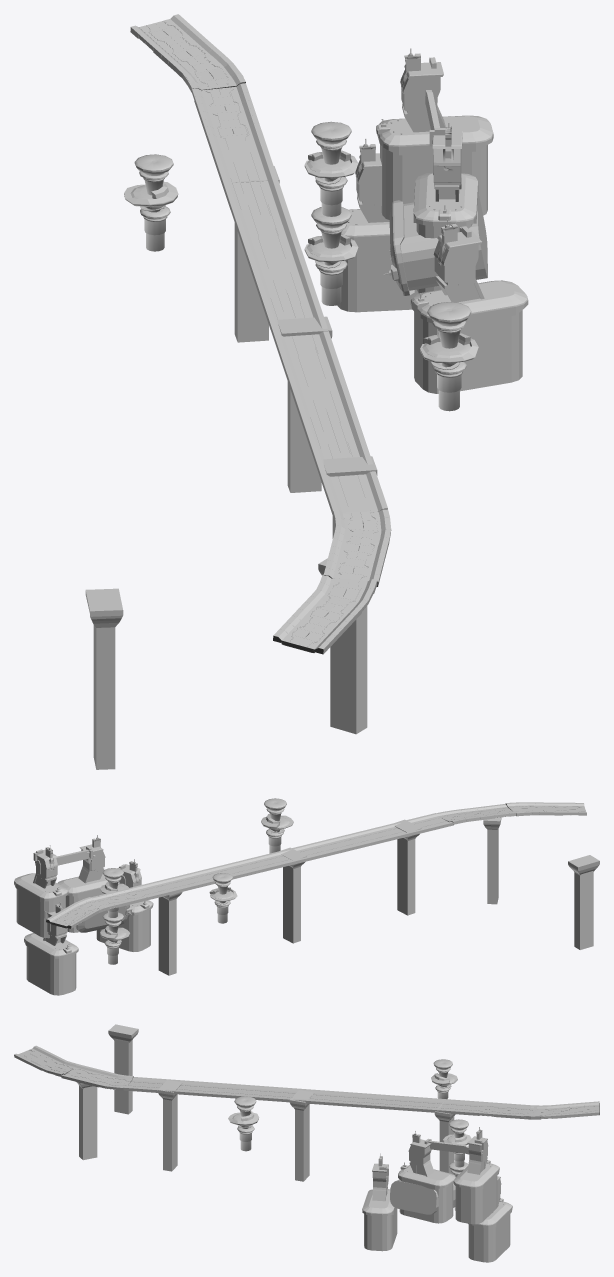
The model's file is City 1.fbx.
3 views of the same model, one above another, from view 1: azimuth 30°, elevation 25°; view 2: azimuth 150°, elevation 25°; view 3: azimuth 270°, elevation 25° (orthographic). The views are drawn at different scales.
Visible parts, largest first — view 1: KB3D_HTS_Road_H_Main_1_001, 立方體.013, 立方體.010, 立方體.003, 立方體.004, KB3D_HTS_Road_H_Main_001.004, 立方體.009, KB3D_HTS_Road_H_Main_001.002, 立方體.005, 立方體.008, KB3D_HTS_Road_H_Main_001.003, 圓柱體.006 (+5 smaller); view 2: KB3D_HTS_Road_H_Main_1_001, 立方體.003, 立方體.010, 立方體.009, 立方體.013, 立方體.004, 立方體.007, 立方體.006, 立方體.011, 立方體.008, KB3D_HTS_Road_H_Main_001.004, 圓柱體.006 (+7 smaller); view 3: KB3D_HTS_Road_H_Main_1_001, 立方體.010, 立方體.004, 立方體.013, 立方體.003, 立方體.009, 立方體.008, 立方體.007, 立方體.006, 立方體.005, KB3D_HTS_Road_H_Main_001.003, KB3D_HTS_Road_H_Main_001.004 (+6 smaller).
Part boxes in pixels (x1=…): KB3D_HTS_Road_H_Main_1_001: x1=185, y1=75, x2=387, y2=516; 立方體.013: x1=410, y1=219, x2=528, y2=393; 立方體.010: x1=376, y1=48, x2=493, y2=219; 立方體.003: x1=337, y1=138, x2=418, y2=312; 立方體.004: x1=413, y1=122, x2=478, y2=293; KB3D_HTS_Road_H_Main_001.004: x1=273, y1=574, x2=377, y2=654; 立方體.009: x1=85, y1=588, x2=123, y2=769; KB3D_HTS_Road_H_Main_001.002: x1=130, y1=14, x2=245, y2=92; 立方體.005: x1=383, y1=194, x2=487, y2=295; 立方體.008: x1=318, y1=558, x2=367, y2=734; KB3D_HTS_Road_H_Main_001.003: x1=323, y1=509, x2=391, y2=586; 圓柱體.006: x1=420, y1=302, x2=478, y2=411; KB3D_HTS_Road_H_Main_1_001: x1=91, y1=813, x2=453, y2=909; 立方體.003: x1=24, y1=902, x2=78, y2=995; 立方體.010: x1=14, y1=845, x2=68, y2=938; 立方體.009: x1=568, y1=855, x2=599, y2=949; 立方體.013: x1=96, y1=859, x2=153, y2=951; 立方體.004: x1=57, y1=835, x2=107, y2=932; 立方體.007: x1=395, y1=819, x2=421, y2=915; 立方體.006: x1=280, y1=847, x2=306, y2=943; 立方體.011: x1=158, y1=882, x2=182, y2=975; 立方體.008: x1=483, y1=817, x2=501, y2=904; KB3D_HTS_Road_H_Main_001.004: x1=505, y1=802, x2=586, y2=816; 圓柱體.006: x1=261, y1=798, x2=293, y2=853; KB3D_HTS_Road_H_Main_1_001: x1=123, y1=1077, x2=544, y2=1119; 立方體.010: x1=453, y1=1127, x2=499, y2=1224; 立方體.004: x1=398, y1=1131, x2=455, y2=1223; 立方體.013: x1=362, y1=1153, x2=397, y2=1251; 立方體.003: x1=468, y1=1176, x2=512, y2=1262; 立方體.009: x1=108, y1=1024, x2=138, y2=1114; 立方體.008: x1=76, y1=1082, x2=97, y2=1160; 立方體.007: x1=158, y1=1080, x2=182, y2=1171; 立方體.006: x1=289, y1=1090, x2=313, y2=1181; 立方體.005: x1=390, y1=1179, x2=455, y2=1214; KB3D_HTS_Road_H_Main_001.003: x1=61, y1=1064, x2=133, y2=1090; KB3D_HTS_Road_H_Main_001.004: x1=14, y1=1045, x2=76, y2=1076.
Size of the model in its own units: 25040 by 9230 by 33575.
